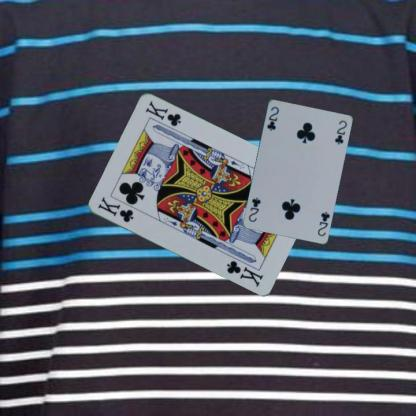2c: (315, 209, 331, 238), (264, 104, 280, 132)
Kc: (95, 194, 134, 224)
